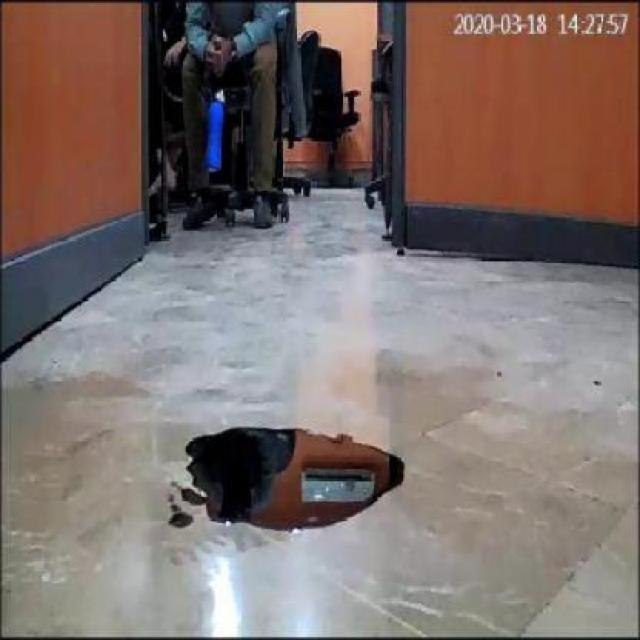spillage: (167, 420, 420, 538)
